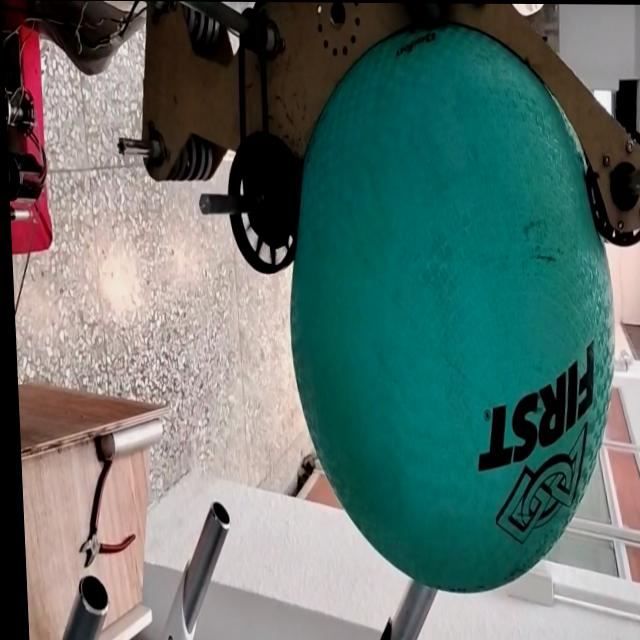ALGAE: (272, 33, 627, 594)
